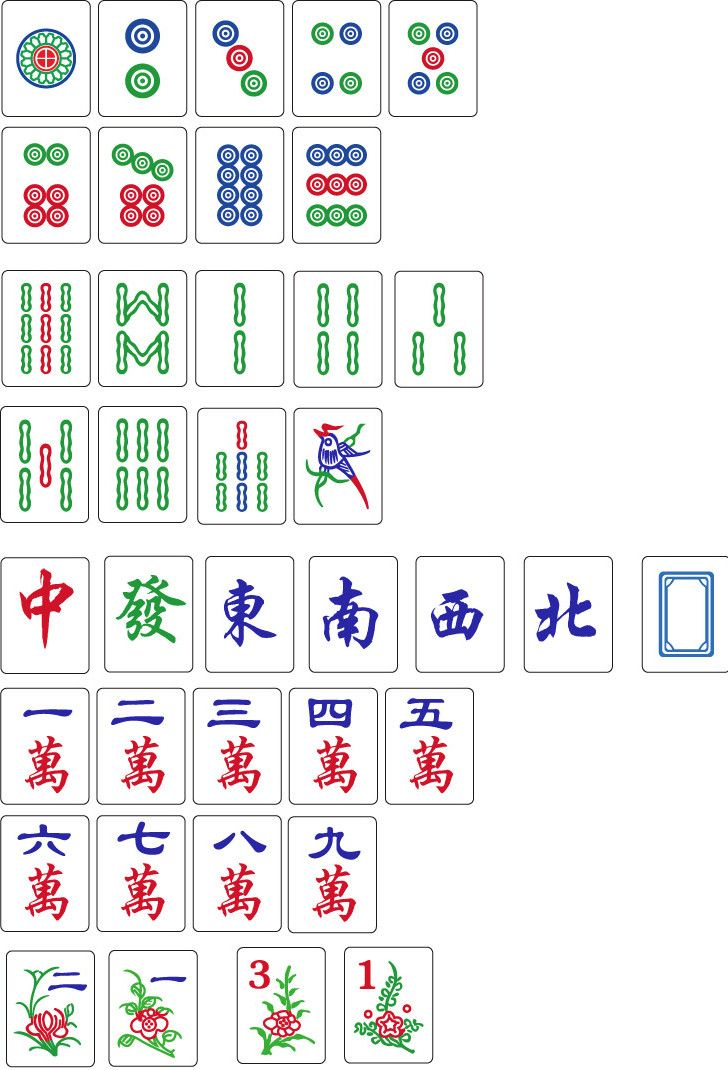1W: (9, 697, 78, 795)
1i: (300, 413, 379, 519)
1o: (2, 3, 90, 119)
2W: (105, 692, 172, 796)
2i: (211, 275, 272, 380)
2o: (103, 2, 182, 108)
3W: (202, 694, 266, 792)
3i: (402, 278, 473, 380)
3o: (200, 4, 278, 117)
4W: (302, 695, 368, 794)
4i: (303, 275, 371, 383)
4o: (295, 4, 377, 109)
5W: (394, 690, 461, 795)
5i: (11, 409, 81, 515)
5o: (392, 1, 472, 115)
6W: (11, 818, 82, 925)
6i: (109, 413, 182, 517)
6o: (9, 130, 86, 237)
7W: (109, 817, 175, 925)
7i: (211, 414, 275, 519)
7o: (106, 136, 181, 234)
8W: (205, 822, 274, 921)
8i: (108, 276, 177, 381)
8o: (202, 133, 285, 245)
9W: (299, 821, 367, 925)
9i: (14, 275, 80, 380)
9o: (299, 134, 372, 232)
East: (217, 566, 278, 658)
Green: (118, 566, 189, 653)
North: (528, 573, 601, 647)
South: (318, 565, 386, 662)
West: (423, 570, 489, 648)
White: (653, 564, 720, 663)
